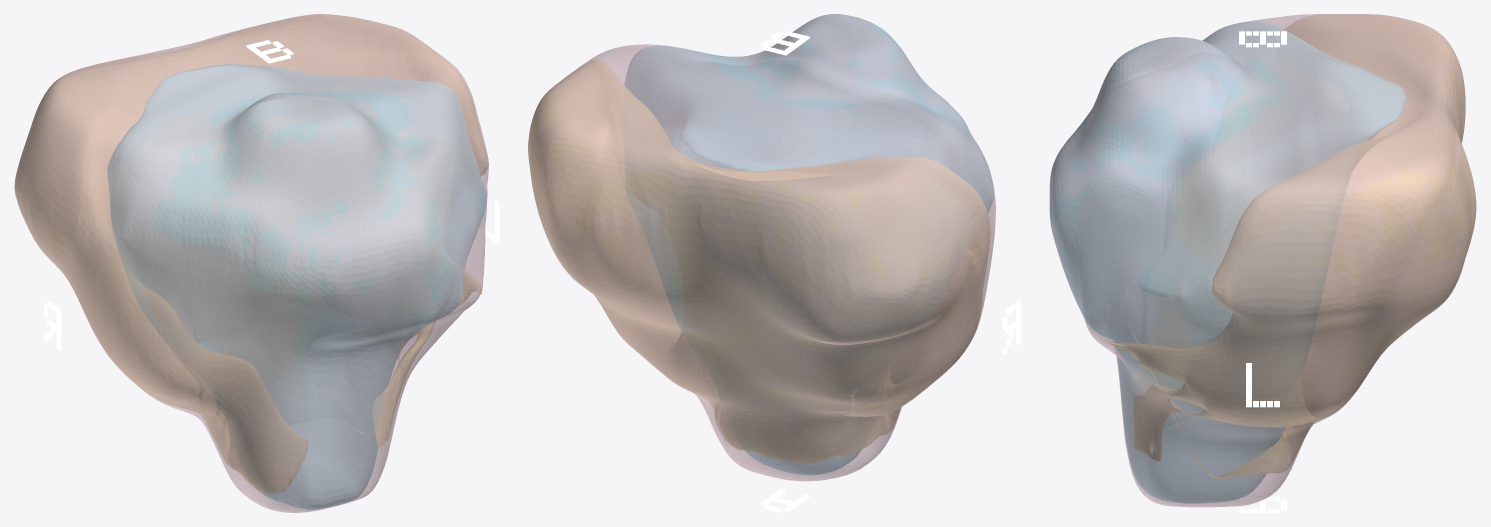
3 renders of one model, left to right at view 1: azimuth 30°, elevation 25°; view 2: azimuth 150°, elevation 25°; view 3: azimuth 270°, elevation 25°, orthographic. The views are drawn at different scales.
Visible parts, largest first — view 1: prostate_gland, transition_zone, peripheral_zone; view 2: prostate_gland, peripheral_zone, transition_zone, pv_ar_marker_B, pv_ar_marker_R; view 3: prostate_gland, transition_zone, peripheral_zone, pv_ar_marker_B.
Part boxes in pixels (x1=…): prostate_gland: x1=14, y1=14, x2=488, y2=512; transition_zone: x1=107, y1=64, x2=486, y2=509; peripheral_zone: x1=15, y1=14, x2=487, y2=493; prostate_gland: x1=528, y1=14, x2=995, y2=481; peripheral_zone: x1=528, y1=59, x2=990, y2=463; transition_zone: x1=623, y1=14, x2=993, y2=474; pv_ar_marker_B: x1=760, y1=31, x2=809, y2=55; pv_ar_marker_R: x1=1002, y1=300, x2=1020, y2=355; prostate_gland: x1=1049, y1=14, x2=1476, y2=507; transition_zone: x1=1050, y1=22, x2=1406, y2=503; peripheral_zone: x1=1103, y1=14, x2=1475, y2=478; pv_ar_marker_B: x1=1239, y1=31, x2=1286, y2=47.
Size of the model in its own units: 0.0447 by 0.043 by 0.0356.
